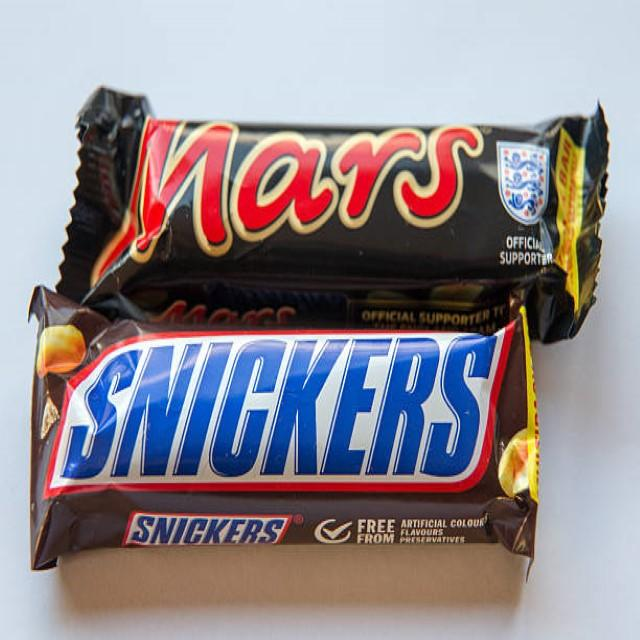mars_chocolate: (92, 101, 593, 312)
snickers_chocolate: (23, 297, 545, 565)
